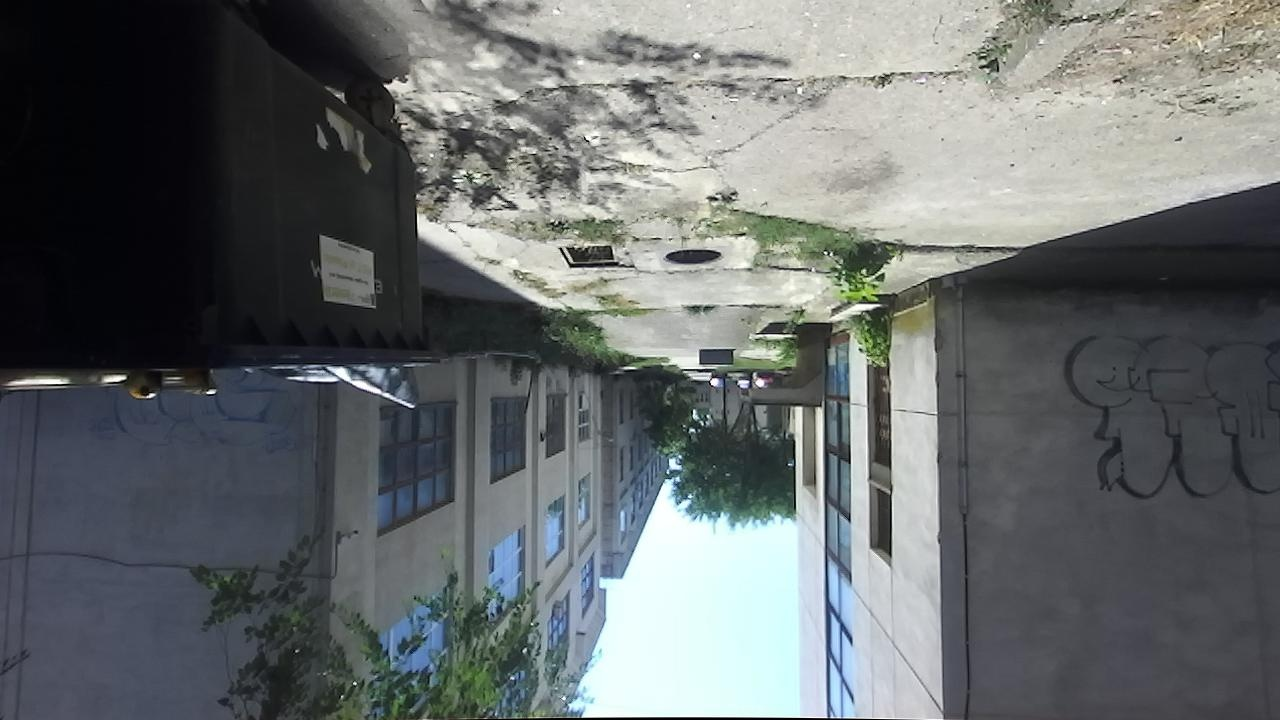drain: (555, 241, 623, 272), (658, 244, 723, 272)
